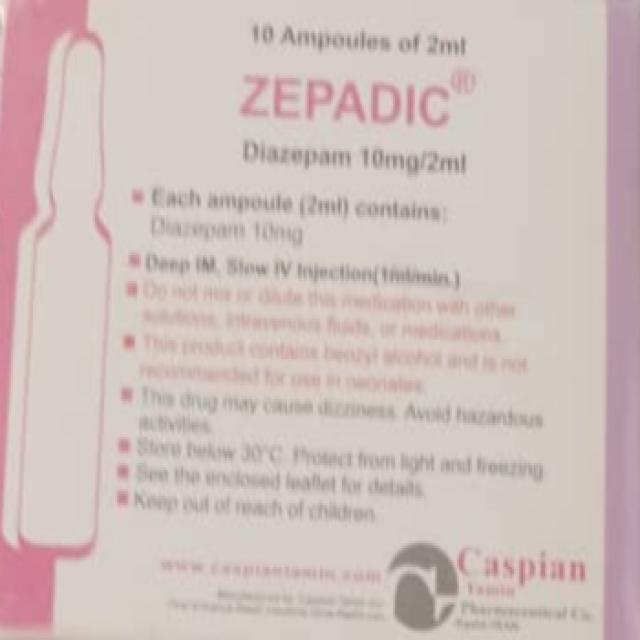drug-name: (233, 70, 457, 132)
